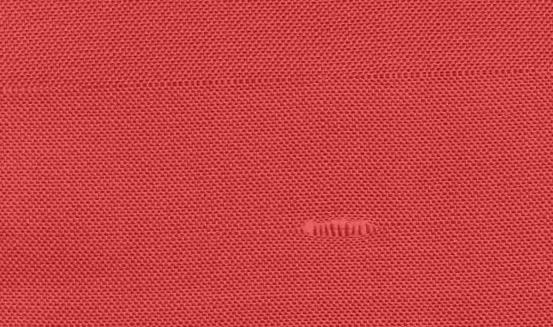slub: (291, 214, 394, 250)
